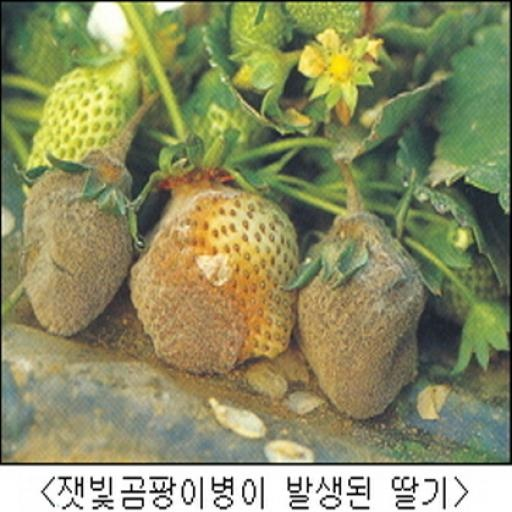Gray Mold: (129, 165, 300, 376), (290, 209, 430, 423), (20, 150, 133, 338)
